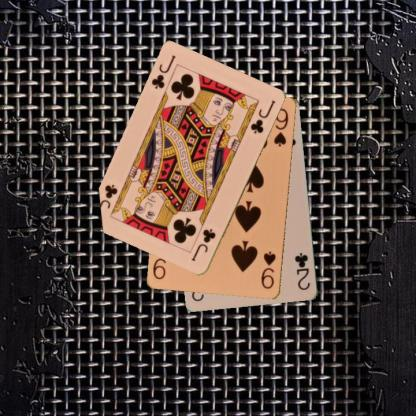2c: (292, 250, 312, 292)
9s: (259, 248, 277, 290)
Jc: (148, 52, 178, 90), (188, 226, 218, 263)
